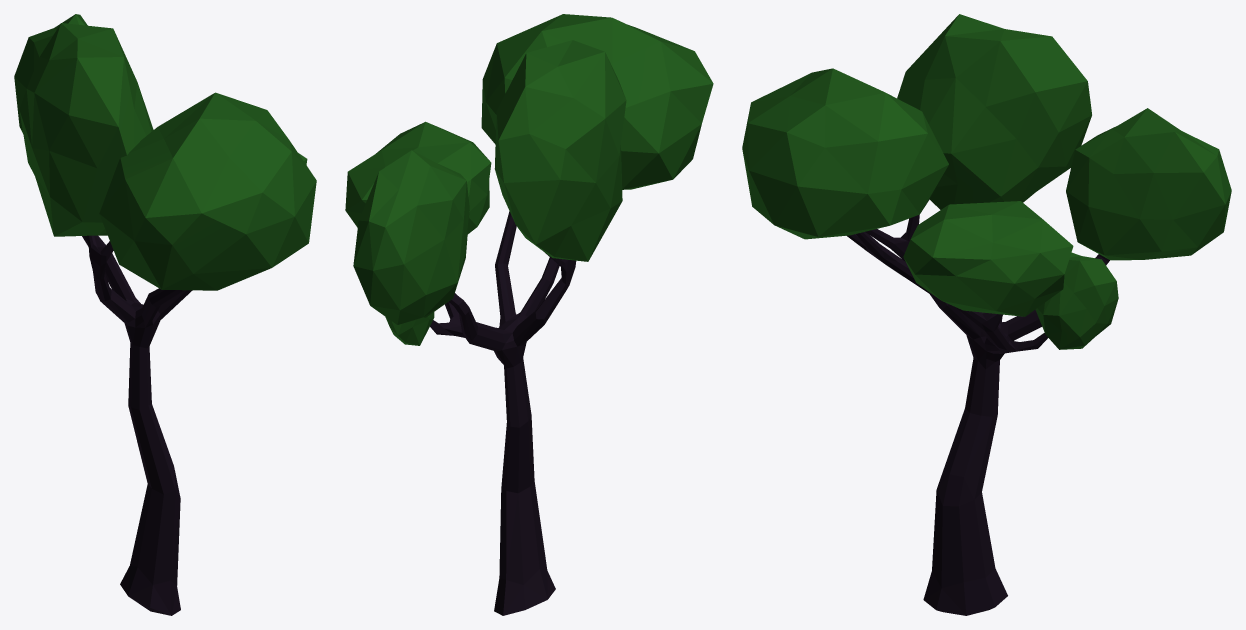
File: Tree04_JT 1.fbx
3 views of the same model, side by side, from view 1: azimuth 30°, elevation 25°; view 2: azimuth 150°, elevation 25°; view 3: azimuth 270°, elevation 25° (orthographic). The views are drawn at different scales.
Parts seen in each view (by area): view 1: Tree04_JT; view 2: Tree04_JT; view 3: Tree04_JT.
Part boxes in pixels (x1=…): Tree04_JT: x1=14, y1=14, x2=316, y2=615; Tree04_JT: x1=345, y1=14, x2=713, y2=615; Tree04_JT: x1=742, y1=14, x2=1231, y2=615.
Size of the model in its own units: 294 by 644 by 514.
